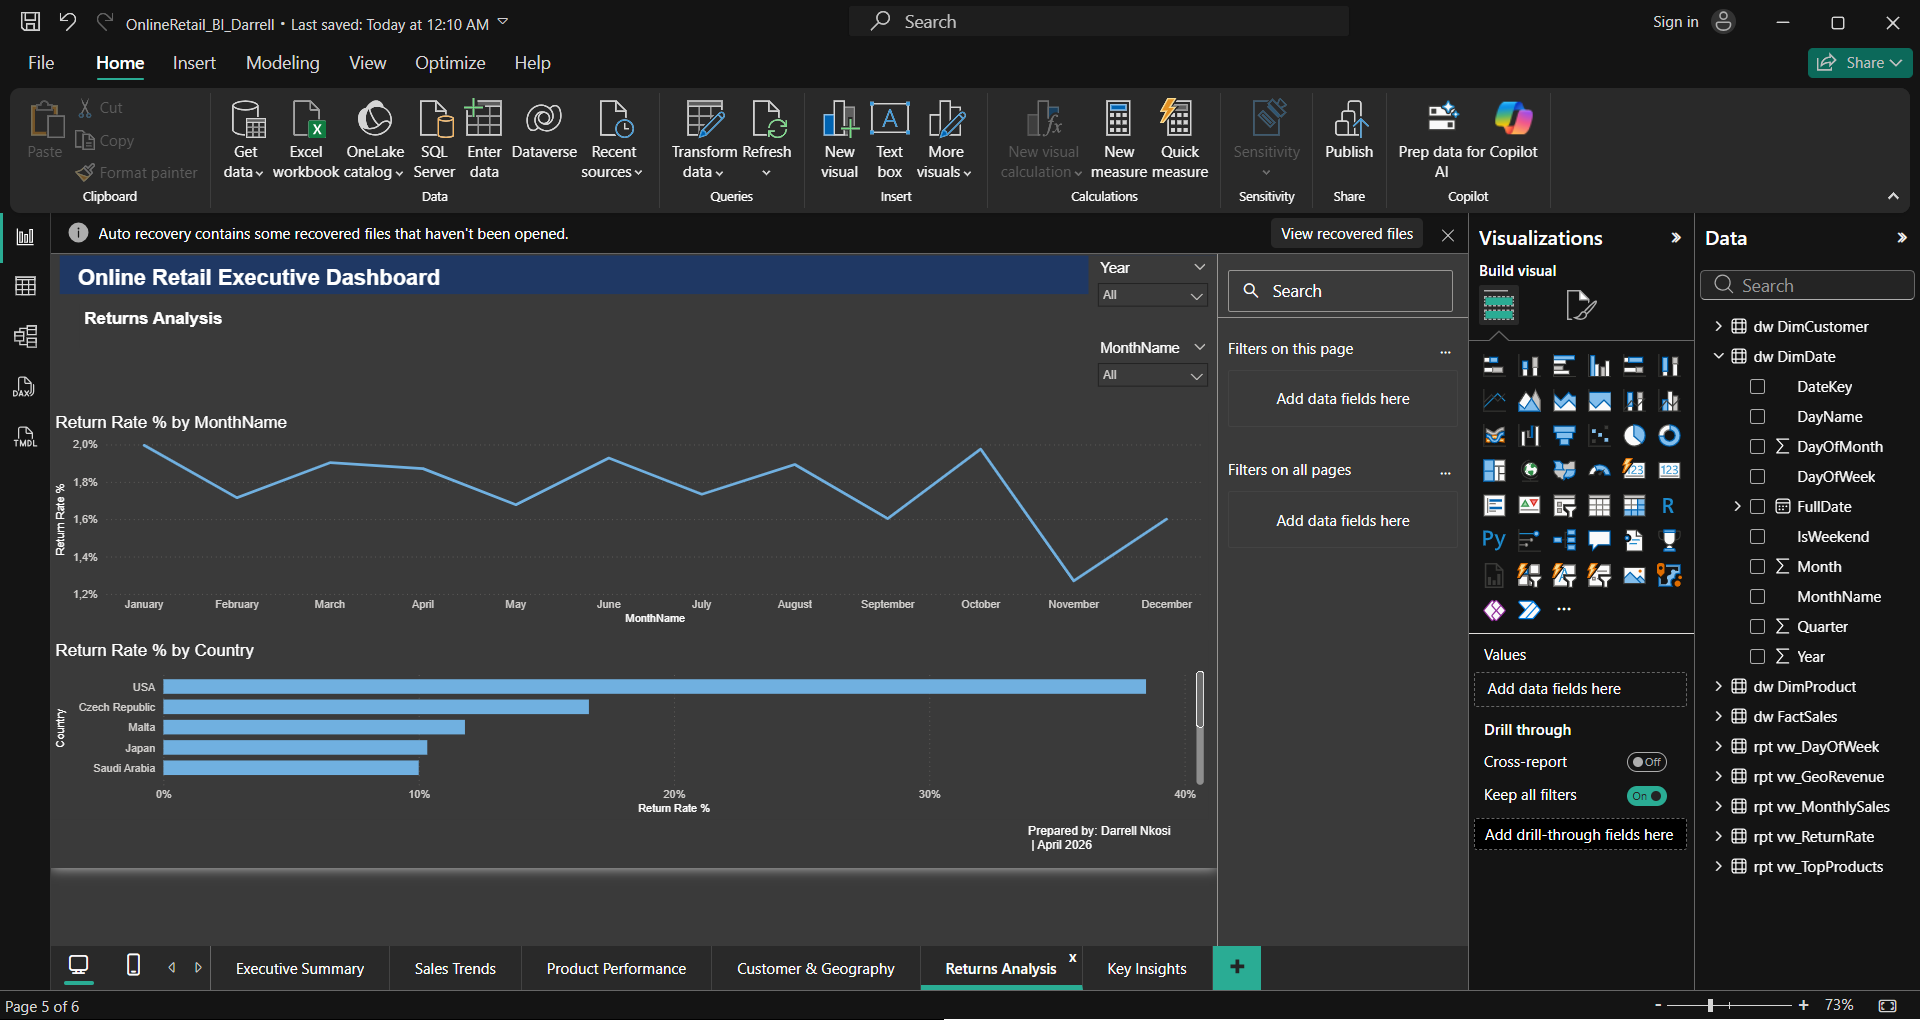

Layout of this report page (visuals, bound fields, positions):
{"tool":"powerbi","page":{"name":"Returns Analysis","canvas":[1280,720],"ordinal":4},"visuals":[{"type":"lineChart","fields":{"Category":["dw DimDate.MonthName"],"Y":["dw FactSales.Return Rate %"]},"box":[0,219.6,1270.7,237.4],"z":0},{"type":"clusteredBarChart","fields":{"Category":["dw DimCustomer.Country"],"Y":["dw FactSales.Return Rate %"]},"box":[0,469.3,1270.7,196.2],"z":1000},{"type":"textbox","box":[9.6,46.7,1269.3,42.5],"z":2000},{"type":"textbox","box":[31.6,100.2,1247.3,48],"z":3000},{"type":"slicer","fields":{"Values":["dw DimDate.Year"]},"box":[1138.7,46.7,141.3,87.8],"z":4000},{"type":"slicer","fields":{"Values":["dw DimDate.MonthName"]},"box":[1138.7,134.5,141.3,85.1],"z":5000},{"type":"textbox","box":[1067.3,665.1,212.7,54.9],"z":6000}]}

Visuals, with their boxes on the page's 1280x720 design canvas (x1, y1, x2, y2). These are canvas units, not pixel positions in the 1920x1020 screenshot, which may show the page scaled, cropped or inside an application window:
lineChart - dw DimDate.MonthName x dw FactSales.Return Rate %: <box>0,220,1271,457</box>
clusteredBarChart - dw DimCustomer.Country x dw FactSales.Return Rate %: <box>0,469,1271,666</box>
textbox: <box>10,47,1279,89</box>
textbox: <box>32,100,1279,148</box>
slicer - dw DimDate.Year: <box>1139,47,1280,134</box>
slicer - dw DimDate.MonthName: <box>1139,134,1280,220</box>
textbox: <box>1067,665,1280,720</box>
